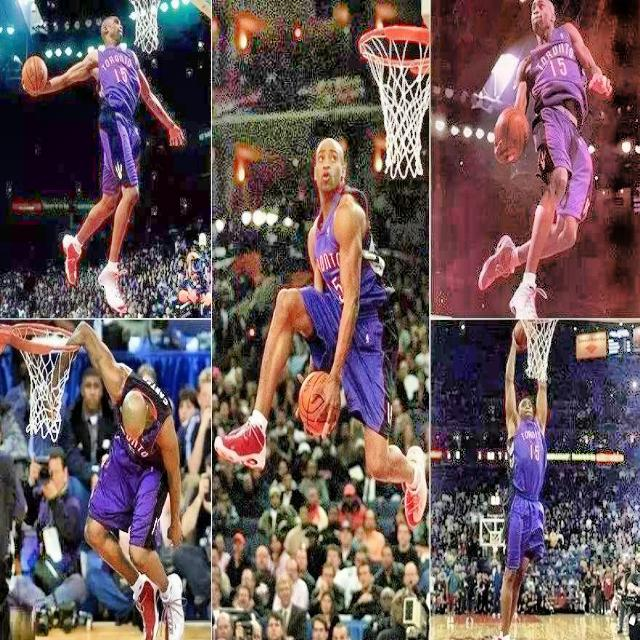board: (496, 108, 530, 161), (23, 57, 47, 96)
rim: (358, 27, 431, 178), (6, 319, 75, 439)
